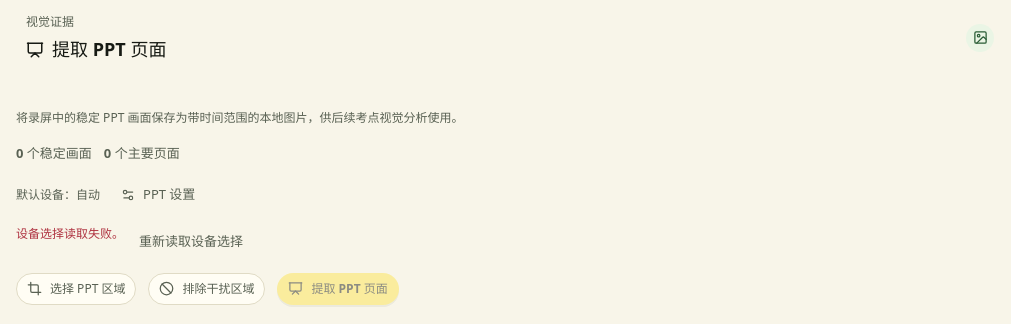
Scenario: blocks extraction until the saved preference is readable
Expected: the button "提取 PPT 页面" is disabled, left=278, top=273, right=399, bottom=305
Click the button "重新读取设备选择" at [191, 242], box left=130, top=224, right=252, bottom=259
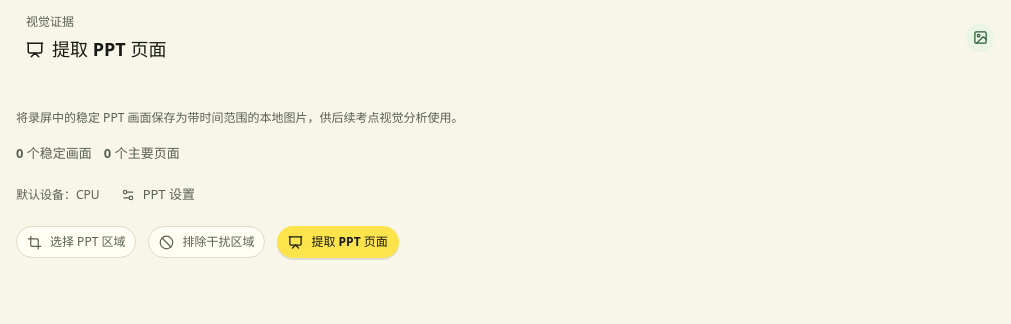
Result: the button "提取 PPT 页面" is enabled at left=278, top=226, right=399, bottom=258
